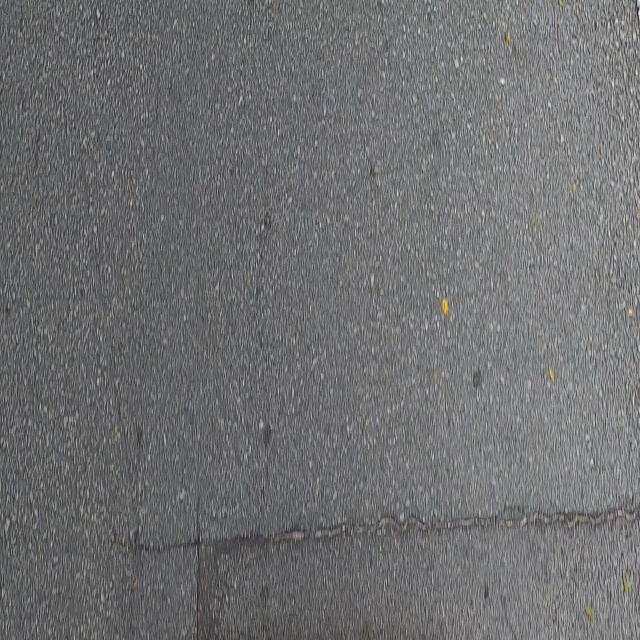Retak-Melintang: (127, 489, 640, 563)
